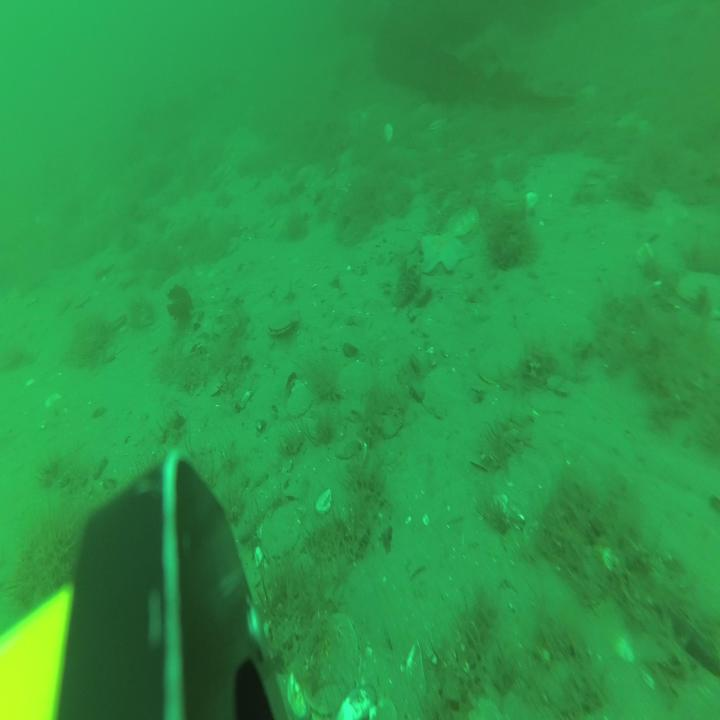scallop: (292, 610, 362, 712), (261, 506, 310, 564), (676, 265, 720, 317), (488, 173, 523, 210), (267, 301, 300, 338), (450, 203, 479, 237), (428, 116, 449, 132), (383, 122, 393, 143)
starfish: (420, 228, 471, 274)
